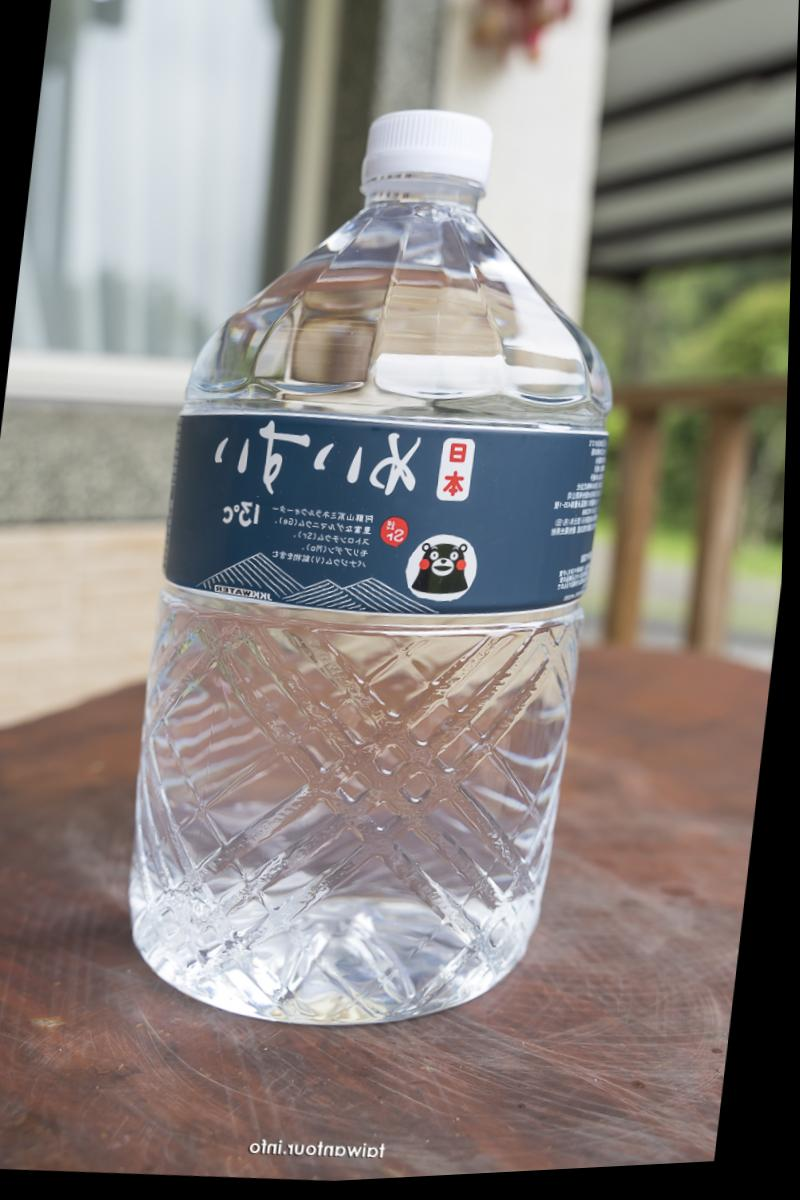plastic: (102, 78, 649, 1054)
